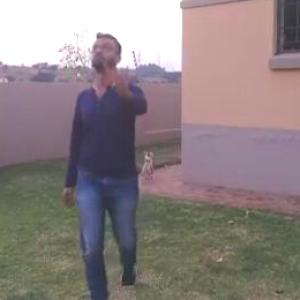takeoff-hand: (111, 68, 135, 100)
